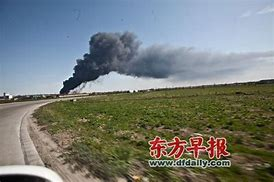smoke: (59, 29, 143, 91)
